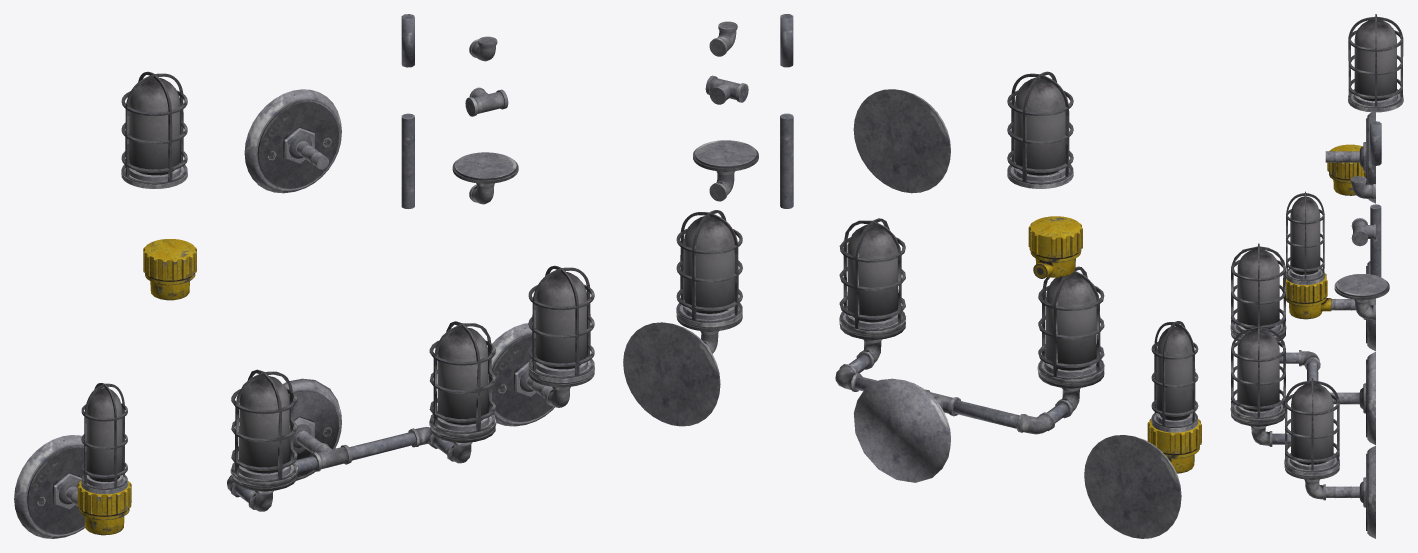
File: industrial_caged_sconce.glb
The picture shows the model from 3 angles, left to right: view 1: azimuth 30°, elevation 25°; view 2: azimuth 150°, elevation 25°; view 3: azimuth 270°, elevation 25°; orthographic projection. The views are drawn at different scales.
Visible parts, largest first — view 1: industrial_caged_sconce_c, industrial_caged_sconce_b, industrial_caged_sconce_a, industrial_caged_sconce_mount, industrial_caged_sconce_light, industrial_caged_sconce_base_a, industrial_caged_sconce_base_b, industrial_caged_sconce_pipe_long, industrial_caged_sconce_pipe_t, industrial_caged_sconce_pipe_short; view 2: industrial_caged_sconce_c, industrial_caged_sconce_a, industrial_caged_sconce_b, industrial_caged_sconce_mount, industrial_caged_sconce_light, industrial_caged_sconce_base_a, industrial_caged_sconce_base_b, industrial_caged_sconce_pipe_long, industrial_caged_sconce_pipe_t, industrial_caged_sconce_pipe_short; view 3: industrial_caged_sconce_c, industrial_caged_sconce_a, industrial_caged_sconce_b, industrial_caged_sconce_light, industrial_caged_sconce_base_b, industrial_caged_sconce_base_a, industrial_caged_sconce_mount, industrial_caged_sconce_pipe_long, industrial_caged_sconce_pipe_t, industrial_caged_sconce_pipe_short, industrial_caged_sconce_elbow.
Boxes of the visible parts, box(x1,y1,x2,y2) form: industrial_caged_sconce_c: box(227, 321, 496, 511); industrial_caged_sconce_b: box(14, 383, 131, 538); industrial_caged_sconce_a: box(488, 265, 594, 426); industrial_caged_sconce_mount: box(244, 89, 341, 193); industrial_caged_sconce_light: box(121, 71, 187, 188); industrial_caged_sconce_base_a: box(143, 239, 196, 300); industrial_caged_sconce_base_b: box(452, 152, 518, 204); industrial_caged_sconce_pipe_long: box(401, 113, 414, 208); industrial_caged_sconce_pipe_t: box(465, 87, 508, 116); industrial_caged_sconce_pipe_short: box(401, 14, 414, 67); industrial_caged_sconce_c: box(835, 218, 1104, 482); industrial_caged_sconce_a: box(623, 210, 742, 426); industrial_caged_sconce_b: box(1084, 321, 1201, 538); industrial_caged_sconce_mount: box(853, 89, 950, 193); industrial_caged_sconce_light: box(1007, 71, 1073, 188); industrial_caged_sconce_base_a: box(1028, 216, 1082, 278); industrial_caged_sconce_base_b: box(693, 140, 758, 201); industrial_caged_sconce_pipe_long: box(780, 113, 793, 208); industrial_caged_sconce_pipe_t: box(705, 75, 748, 104); industrial_caged_sconce_pipe_short: box(780, 14, 793, 67); industrial_caged_sconce_c: box(1230, 243, 1375, 446); industrial_caged_sconce_a: box(1284, 378, 1375, 538); industrial_caged_sconce_b: box(1283, 191, 1375, 351); industrial_caged_sconce_light: box(1348, 14, 1403, 112); industrial_caged_sconce_base_b: box(1334, 274, 1389, 320); industrial_caged_sconce_base_a: box(1327, 144, 1365, 195); industrial_caged_sconce_mount: box(1325, 110, 1375, 203); industrial_caged_sconce_pipe_long: box(1370, 204, 1381, 277); industrial_caged_sconce_pipe_t: box(1351, 218, 1375, 246); industrial_caged_sconce_pipe_short: box(1370, 121, 1381, 165); industrial_caged_sconce_elbow: box(1350, 176, 1375, 199).
Size of the model in its own units: 1.21 by 0.9128 by 0.39.
1 material, 1 textured.
